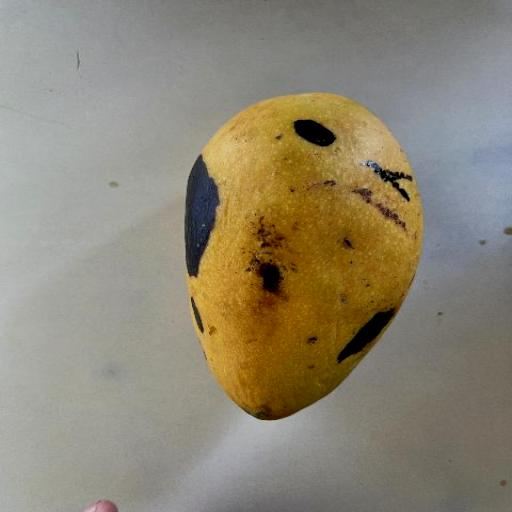mango-overripe: (173, 65, 443, 439)
